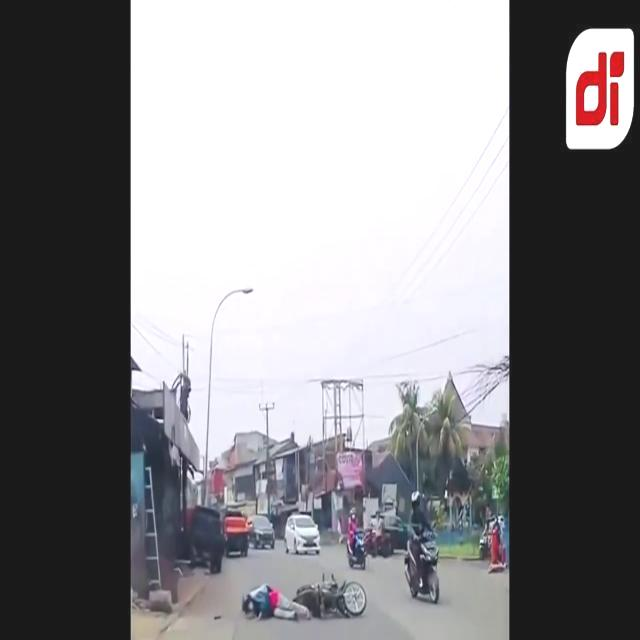accident: (294, 578, 366, 618)
non-accident: (345, 495, 443, 601), (220, 510, 274, 556)
